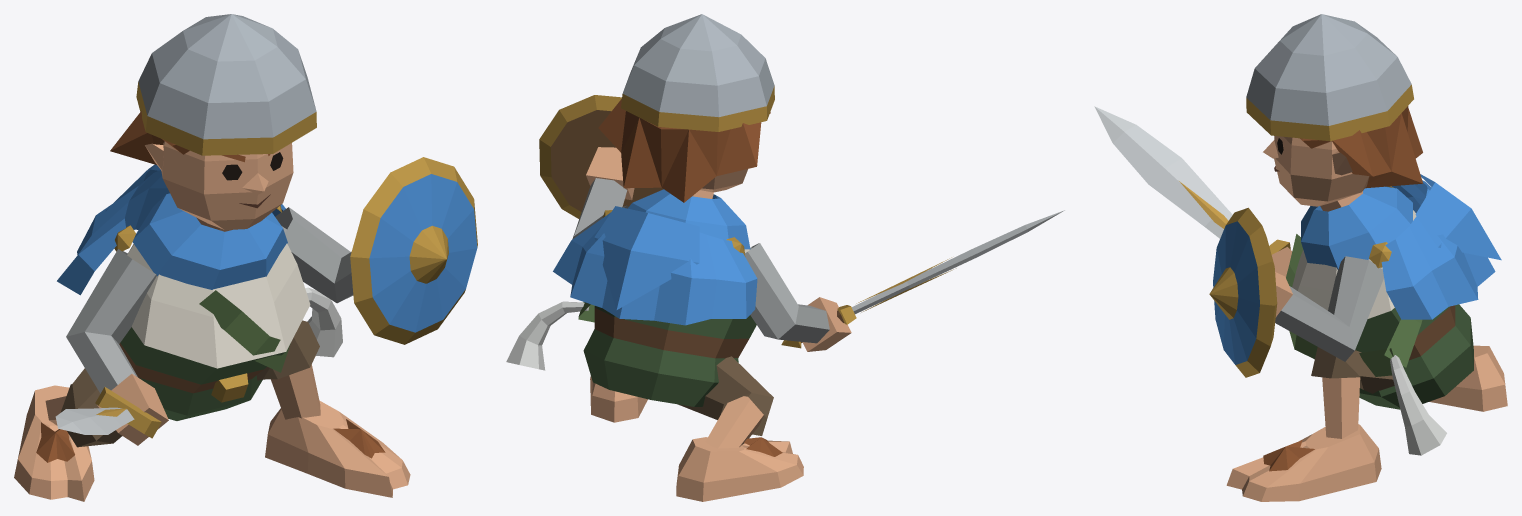
Rendered from merry-3.glb.
3 views of the same model, side by side, from view 1: azimuth 30°, elevation 25°; view 2: azimuth 150°, elevation 25°; view 3: azimuth 270°, elevation 25° (orthographic). The views are drawn at different scales.
Parts seen in each view (by area): view 1: merry-3; view 2: merry-3; view 3: merry-3.
Boxes of the visible parts, <box> form: merry-3: <box>14,14,477,501</box>; merry-3: <box>506,14,1064,501</box>; merry-3: <box>1094,14,1507,501</box>.
Size of the model in its own units: 1.05 by 0.9122 by 0.8062.
